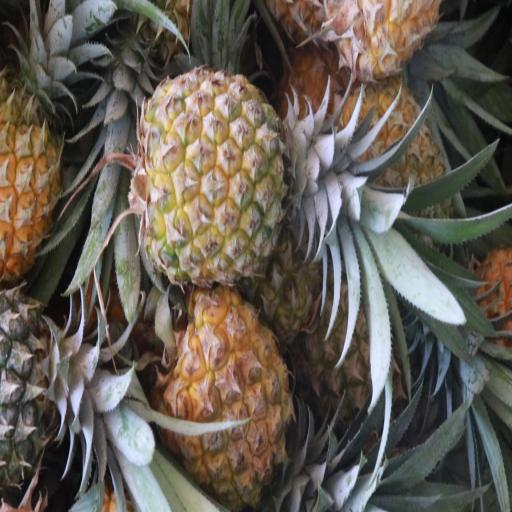------------------------------: (336, 88, 447, 252)
Pineapple - v8 v1: (141, 68, 288, 279), (162, 289, 290, 496), (0, 84, 67, 281)
